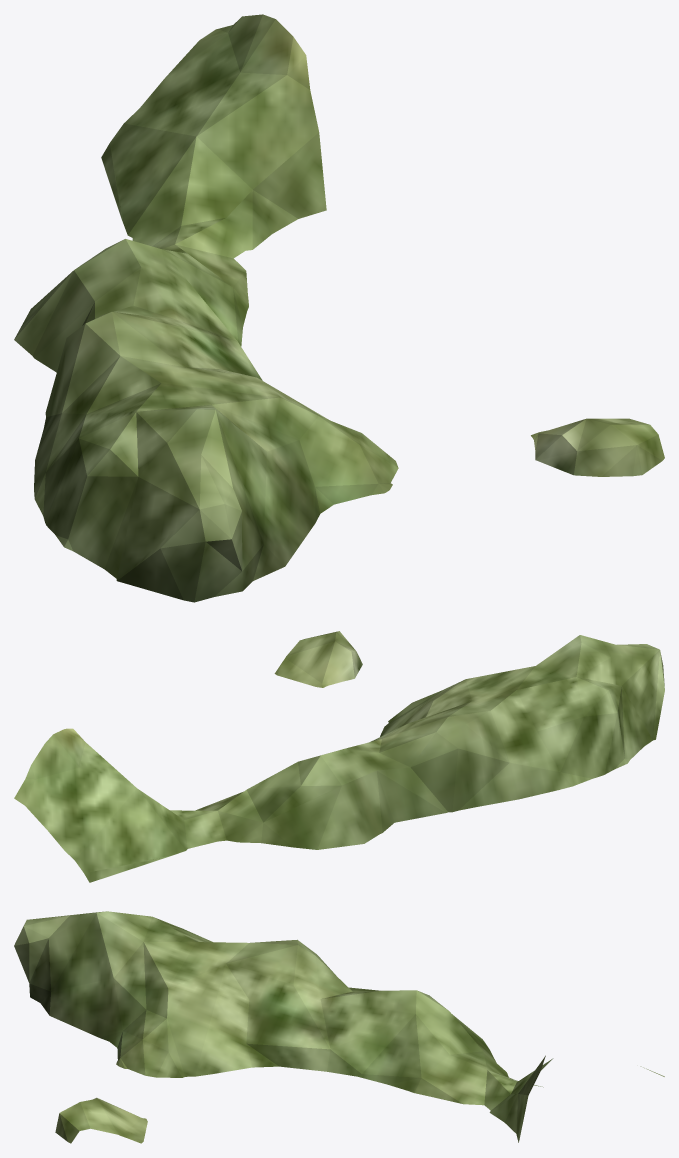
The picture shows the model from 3 angles, top to bottom: view 1: azimuth 30°, elevation 25°; view 2: azimuth 150°, elevation 25°; view 3: azimuth 270°, elevation 25°; orthographic projection. The views are drawn at different scales.
Bounding box in the file's own units: 0.9542 × 0.2592 × 1.5.
Materials: 1 (1 with a texture image).
